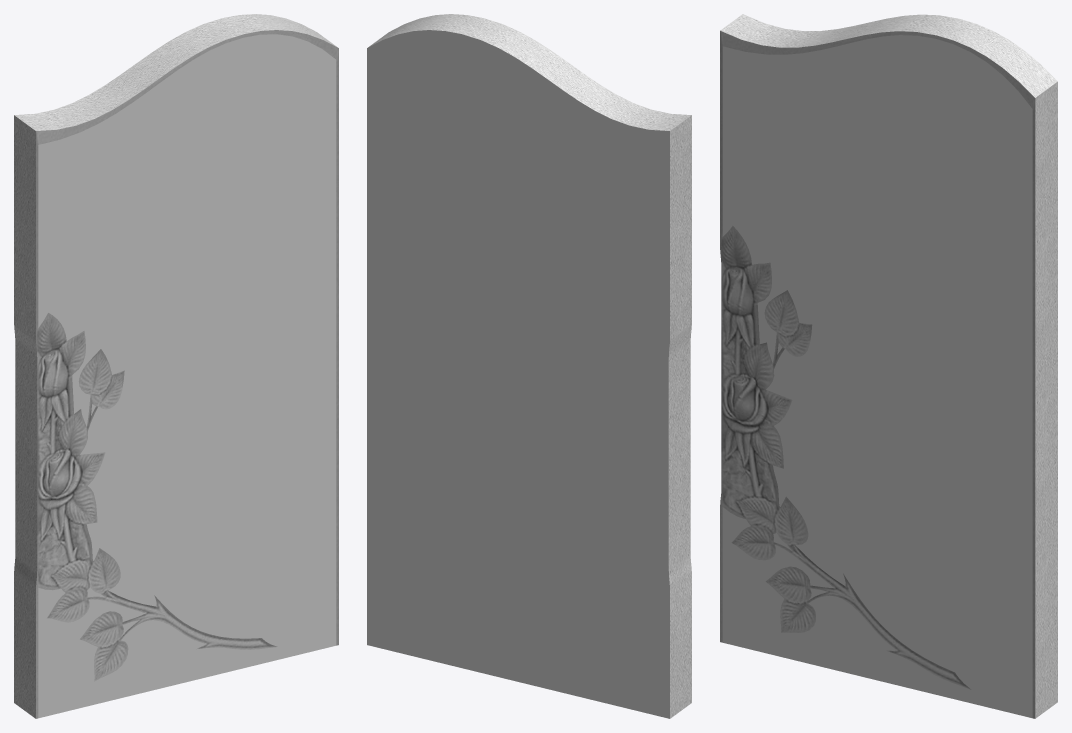
File: cn8117ded3ca_tkf.glb
The picture shows the model from 3 angles, left to right: view 1: azimuth 30°, elevation 25°; view 2: azimuth 150°, elevation 25°; view 3: azimuth 330°, elevation 25°; orthographic projection. The views are drawn at different scales.
Parts seen in each view (by area): view 1: Pam-d03-096, Pam-d03-096_2_notexture; view 2: Pam-d03-096, Pam-d03-096_2_notexture; view 3: Pam-d03-096, Pam-d03-096_2_notexture.
Boxes of the visible parts, box(x1,y1,x2,y2) form: Pam-d03-096: box(38, 34, 336, 718); Pam-d03-096_2_notexture: box(14, 14, 338, 718); Pam-d03-096: box(367, 30, 669, 718); Pam-d03-096_2_notexture: box(368, 14, 691, 718); Pam-d03-096: box(722, 35, 1032, 718); Pam-d03-096_2_notexture: box(720, 14, 1057, 718).
Size of the model in its own units: 0.4 by 0.8 by 0.05.
1 material, 1 textured.
